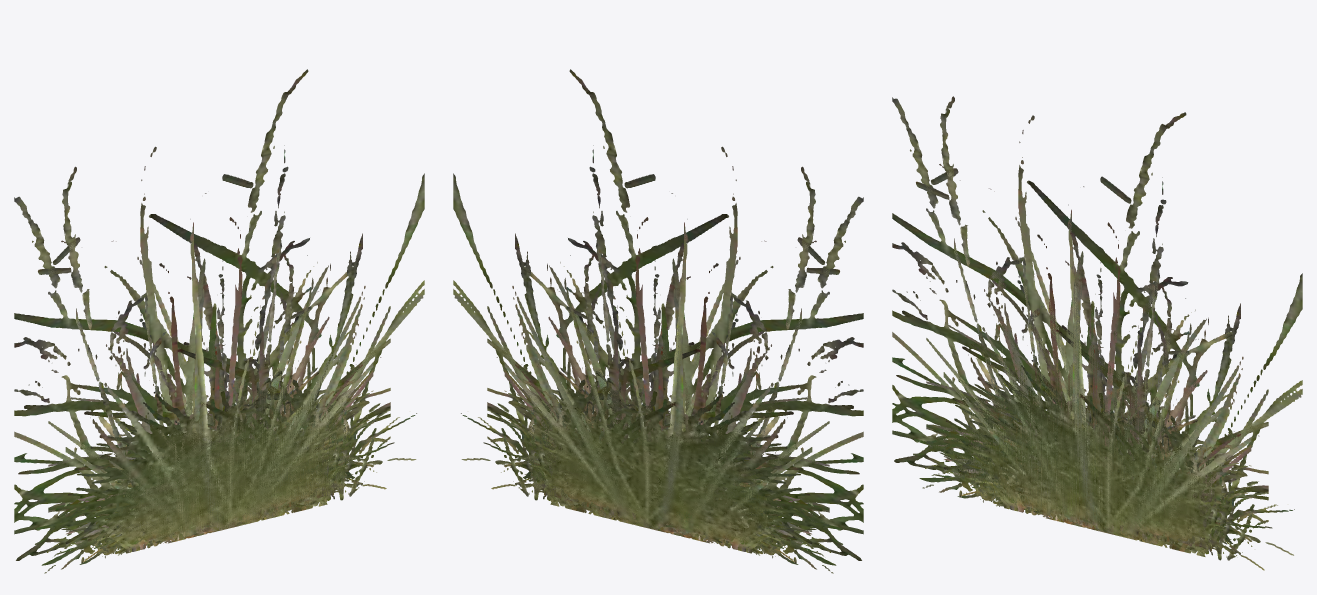
Rendered from hierba_lod.glb.
3 renders of one model, left to right at view 1: azimuth 30°, elevation 25°; view 2: azimuth 150°, elevation 25°; view 3: azimuth 330°, elevation 25°, orthographic.
Visible parts, largest first — view 1: lod_4_espiga_a, lod_10_alta_arqueada, lod_0_verde_a, lod_5_espiga_b, lod_6_mixta_seca_a, lod_8_seca, lod_7_mixta_seca_b, lod_2_verde_c, lod_11_palida, lod_1_verde_b, lod_3_verde_d; view 2: lod_0_verde_a, lod_10_alta_arqueada, lod_4_espiga_a, lod_6_mixta_seca_a, lod_7_mixta_seca_b, lod_8_seca, lod_2_verde_c, lod_5_espiga_b, lod_1_verde_b, lod_11_palida; view 3: lod_10_alta_arqueada, lod_0_verde_a, lod_4_espiga_a, lod_6_mixta_seca_a, lod_2_verde_c, lod_7_mixta_seca_b, lod_8_seca, lod_5_espiga_b, lod_11_palida, lod_1_verde_b.
Boxes of the visible parts, x1=… form: lod_4_espiga_a: x1=35, y1=145, x2=394, y2=552; lod_10_alta_arqueada: x1=14, y1=69, x2=424, y2=573; lod_0_verde_a: x1=65, y1=255, x2=373, y2=552; lod_5_espiga_b: x1=76, y1=233, x2=362, y2=549; lod_6_mixta_seca_a: x1=48, y1=219, x2=390, y2=564; lod_8_seca: x1=65, y1=255, x2=373, y2=561; lod_7_mixta_seca_b: x1=66, y1=217, x2=373, y2=552; lod_2_verde_c: x1=48, y1=265, x2=390, y2=556; lod_11_palida: x1=58, y1=240, x2=381, y2=559; lod_1_verde_b: x1=94, y1=352, x2=349, y2=548; lod_3_verde_d: x1=148, y1=396, x2=335, y2=542; lod_0_verde_a: x1=504, y1=255, x2=812, y2=552; lod_10_alta_arqueada: x1=453, y1=69, x2=863, y2=573; lod_4_espiga_a: x1=483, y1=145, x2=842, y2=552; lod_6_mixta_seca_a: x1=487, y1=219, x2=829, y2=563; lod_7_mixta_seca_b: x1=504, y1=217, x2=811, y2=552; lod_8_seca: x1=504, y1=255, x2=812, y2=561; lod_2_verde_c: x1=487, y1=265, x2=829, y2=556; lod_5_espiga_b: x1=515, y1=233, x2=801, y2=547; lod_1_verde_b: x1=528, y1=352, x2=783, y2=548; lod_11_palida: x1=496, y1=240, x2=819, y2=559; lod_10_alta_arqueada: x1=892, y1=97, x2=1302, y2=555; lod_0_verde_a: x1=943, y1=270, x2=1251, y2=551; lod_4_espiga_a: x1=913, y1=96, x2=1272, y2=570; lod_6_mixta_seca_a: x1=926, y1=204, x2=1268, y2=556; lod_2_verde_c: x1=926, y1=314, x2=1268, y2=560; lod_7_mixta_seca_b: x1=944, y1=222, x2=1251, y2=551; lod_8_seca: x1=943, y1=234, x2=1251, y2=551; lod_5_espiga_b: x1=954, y1=238, x2=1240, y2=555; lod_11_palida: x1=935, y1=188, x2=1259, y2=548; lod_1_verde_b: x1=972, y1=341, x2=1226, y2=553.
Size of the model in its own units: 0.552 by 0.6 by 0.
Materials: 1 (1 with a texture image).
